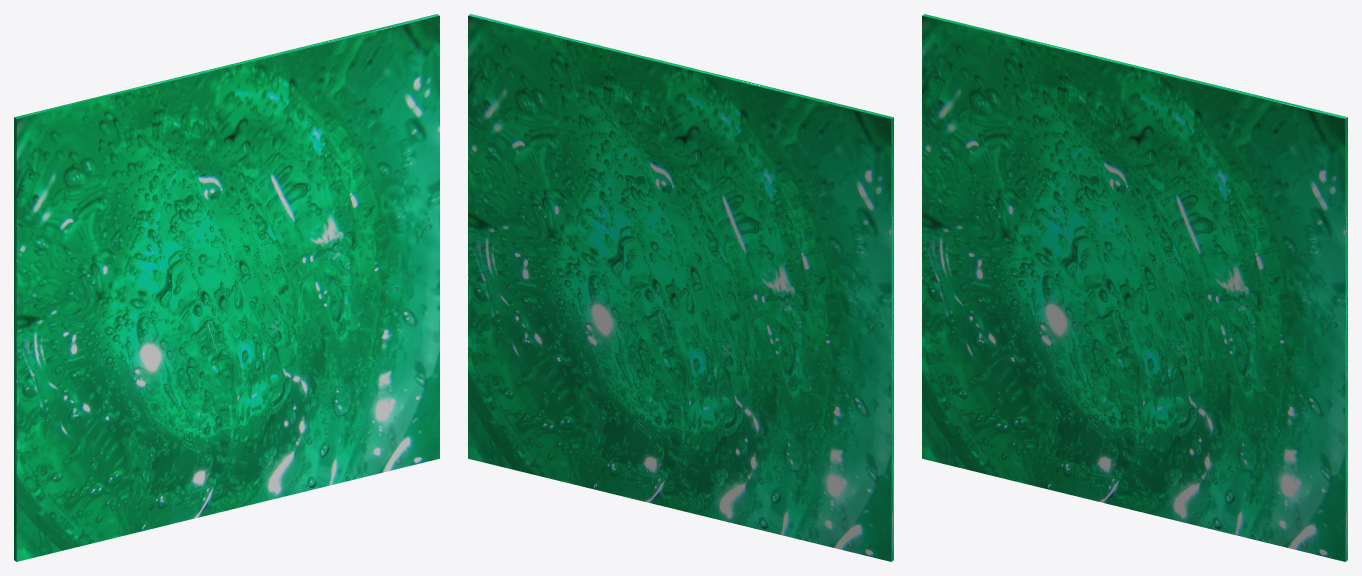
The model's file is gooWall.obj.
3 renders of one model, left to right at view 1: azimuth 30°, elevation 25°; view 2: azimuth 150°, elevation 25°; view 3: azimuth 330°, elevation 25°, orthographic.
Parts seen in each view (by area): view 1: Cube_Cube.001; view 2: Cube_Cube.001; view 3: Cube_Cube.001.
Part boxes in pixels (x1,y1,x2,y2): Cube_Cube.001: [14, 14, 439, 561]; Cube_Cube.001: [468, 14, 893, 561]; Cube_Cube.001: [922, 14, 1347, 561].
Bounding box in the file's own units: 2 × 2 × 0.02.
